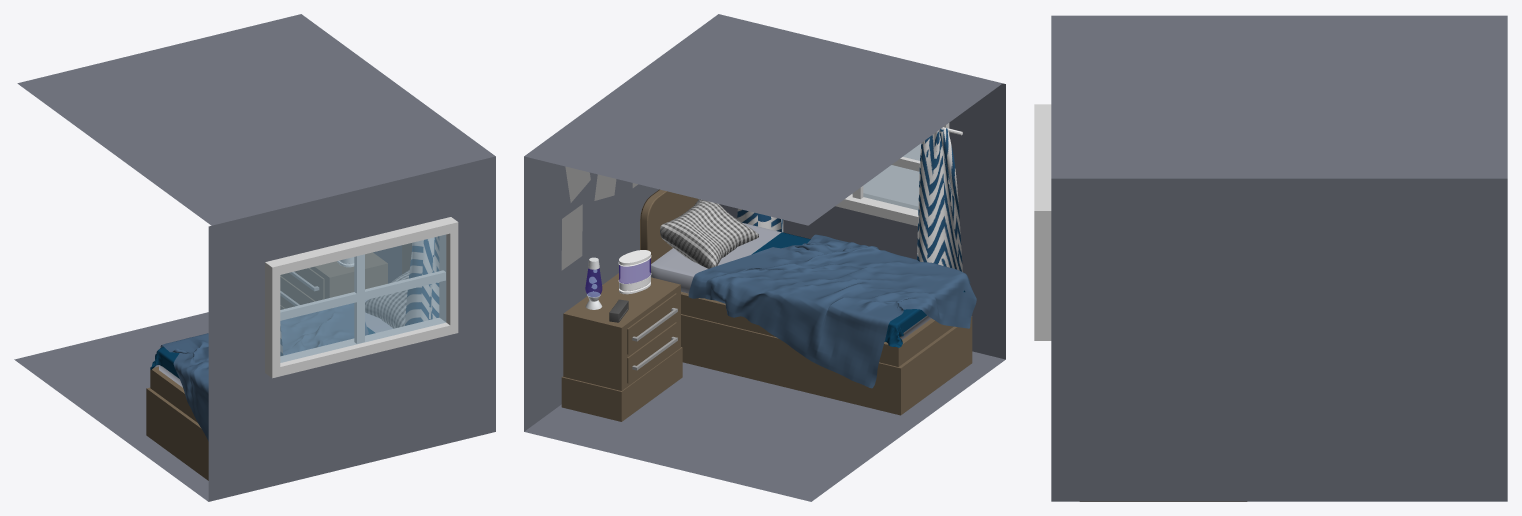
Rendered from Quarto.fbx.
3 renders of one model, left to right at view 1: azimuth 30°, elevation 25°; view 2: azimuth 150°, elevation 25°; view 3: azimuth 270°, elevation 25°, orthographic. The views are drawn at different scales.
Parts seen in each view (by area): view 1: polySurface27; view 2: polySurface27; view 3: polySurface27.
Boxes of the visible parts, x1=… form: polySurface27: x1=14, y1=14, x2=495, y2=501; polySurface27: x1=524, y1=14, x2=1005, y2=501; polySurface27: x1=1034, y1=15, x2=1507, y2=501.
Size of the model in its own units: 2.31 by 2.13 by 2.81.
17 materials, 2 textured.
